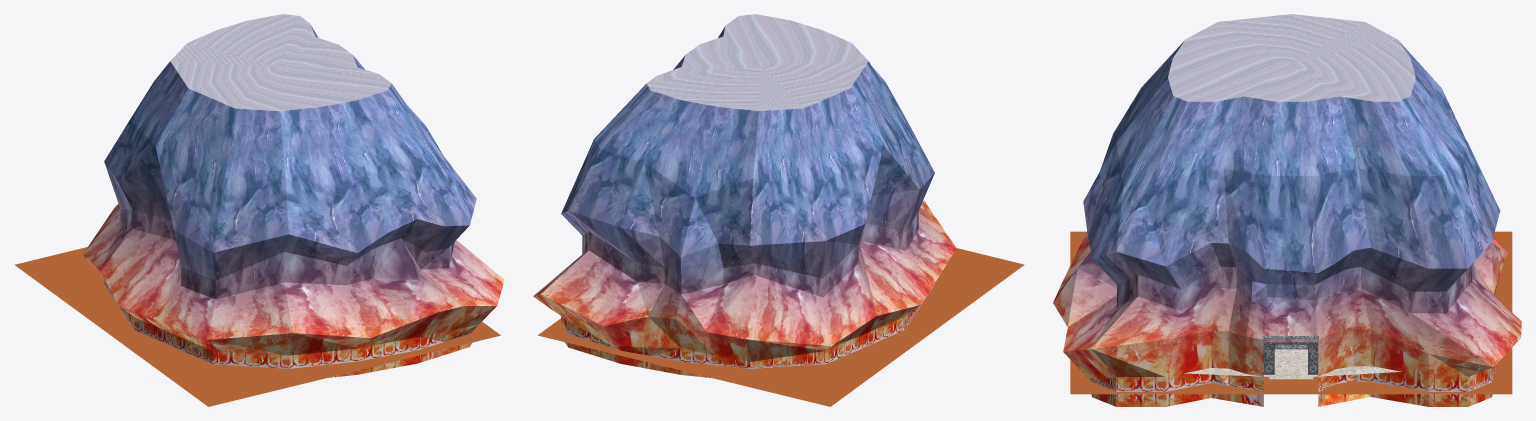
Rendered from Bomb Island (Room 1).dae.
3 views of the same model, side by side, from view 1: azimuth 30°, elevation 25°; view 2: azimuth 150°, elevation 25°; view 3: azimuth 270°, elevation 25° (orthographic). The views are drawn at different scales.
Parts seen in each view (by area): view 1: mesh-4, mesh-0; view 2: mesh-4, mesh-0; view 3: mesh-4, mesh-0, mesh-2, mesh-3.
Part boxes in pixels (<box>): mesh-4: <box>83,14,504,377</box>; mesh-0: <box>14,247,500,406</box>; mesh-4: <box>533,14,956,377</box>; mesh-0: <box>537,248,1024,406</box>; mesh-4: <box>1053,14,1521,406</box>; mesh-0: <box>1070,231,1512,394</box>; mesh-2: <box>1184,349,1401,379</box>; mesh-3: <box>1263,336,1318,374</box>.
Bounding box in the file's own units: 3631 × 4242 × 2750.
Materials: 6 (6 with a texture image).
